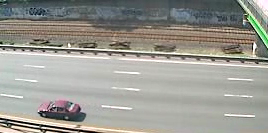car: (35, 97, 83, 122)
